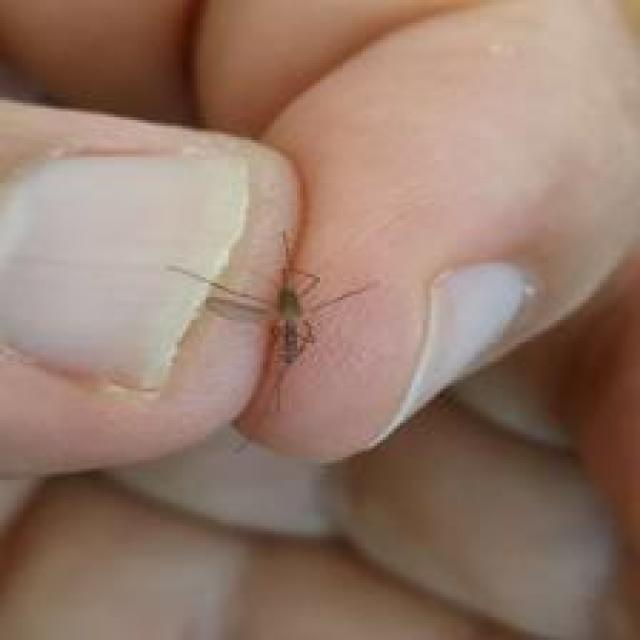Culex: (166, 228, 371, 368)
